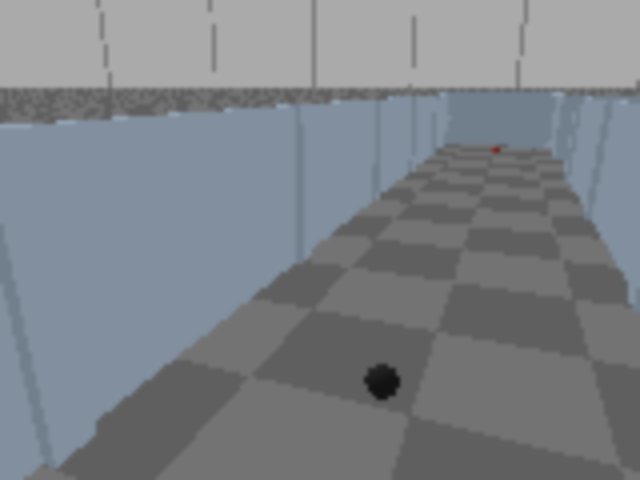puck: (358, 354, 407, 411)
